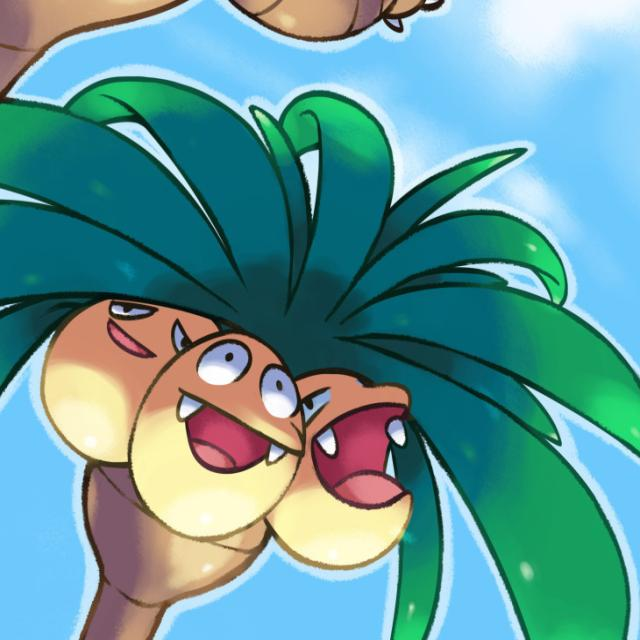Exeggutor: (19, 277, 426, 640)
